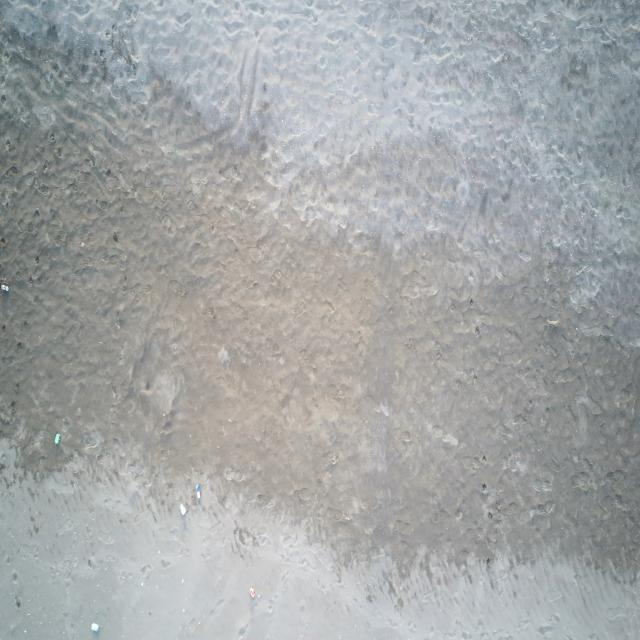tin-and-aluminum-cans: (179, 502, 187, 517), (0, 282, 10, 292), (91, 621, 100, 632), (250, 588, 258, 600), (195, 484, 201, 500), (54, 433, 60, 445)
